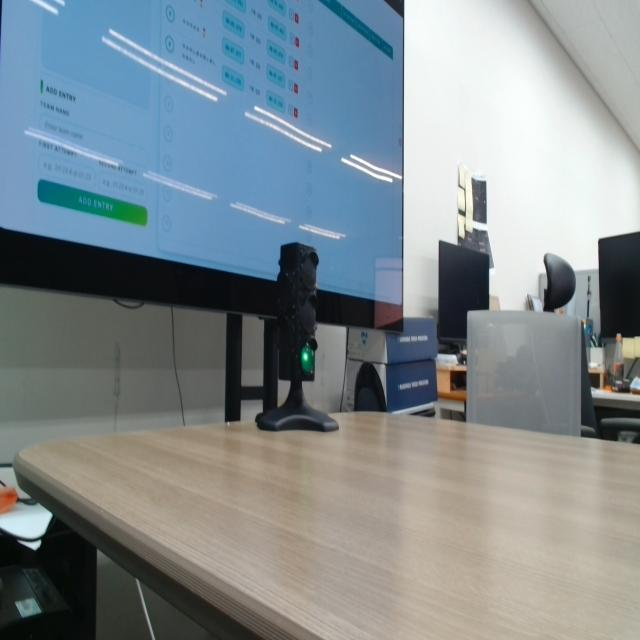green_light: (301, 345, 314, 375)
